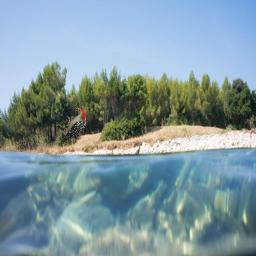Woodpecker: (57, 105, 87, 142)
